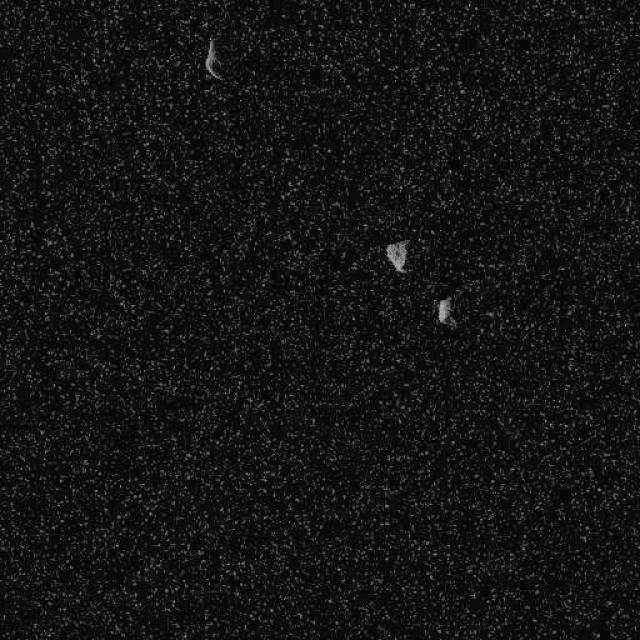D2: (203, 35, 225, 81), (384, 238, 408, 272), (435, 296, 454, 326)
